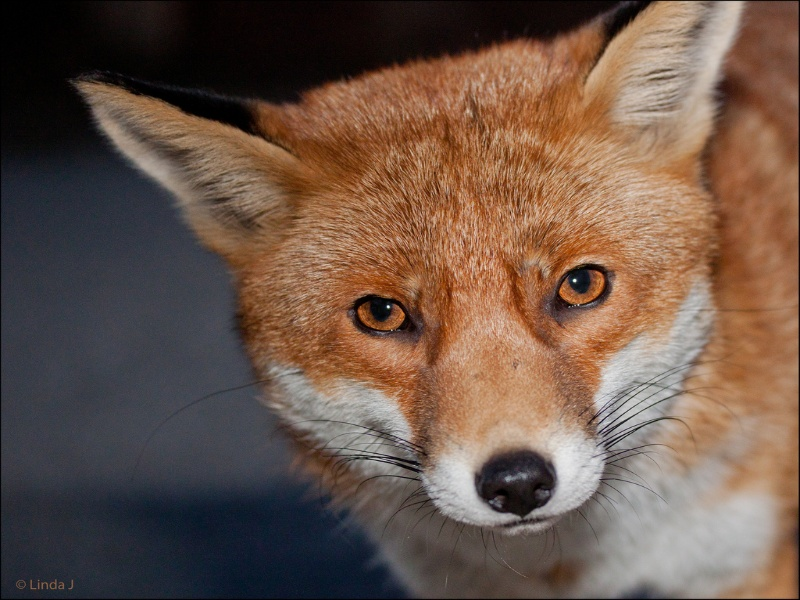fox: (64, 19, 797, 600)
